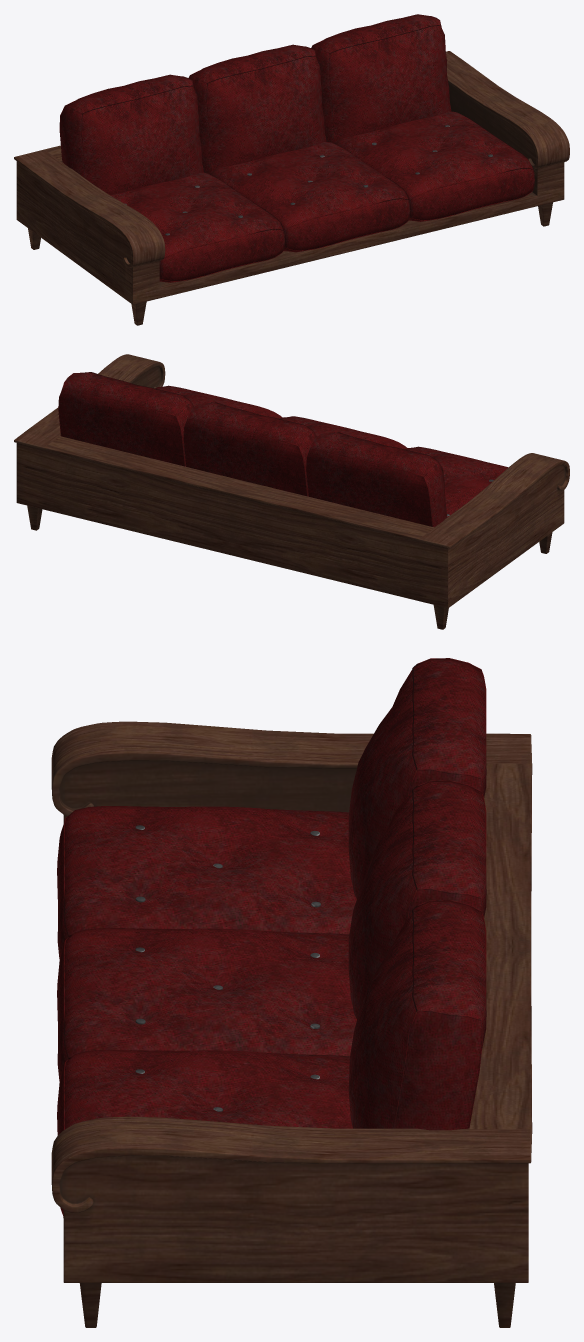
File: antique_sofa.glb
3 renders of one model, top to bottom at view 1: azimuth 30°, elevation 25°; view 2: azimuth 150°, elevation 25°; view 3: azimuth 270°, elevation 25°, orthographic. The views are drawn at different scales.
Parts seen in each view (by area): view 1: Cube.019; view 2: Cube.019; view 3: Cube.019.
Part boxes in pixels (bbox=[...]): Cube.019: bbox=[14, 14, 569, 325]; Cube.019: bbox=[14, 354, 569, 629]; Cube.019: bbox=[51, 658, 532, 1327].
Size of the model in its own units: 9.24 by 3.07 by 4.4.
1 material, 1 textured.
